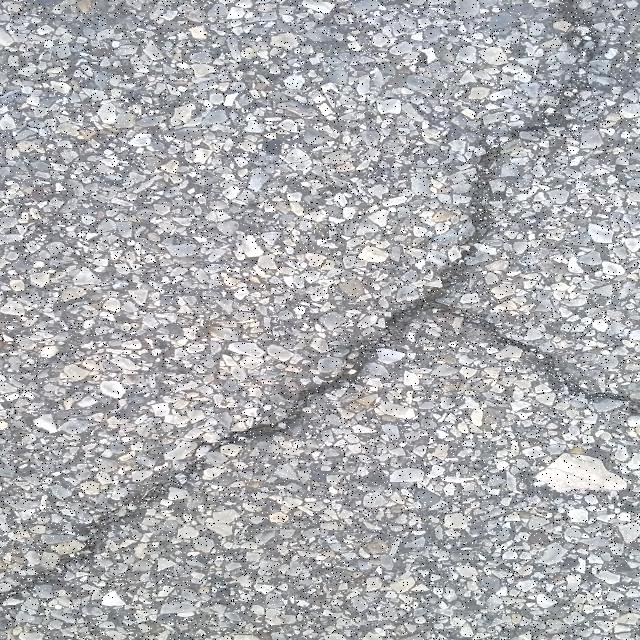Crack: (0, 0, 640, 606)
